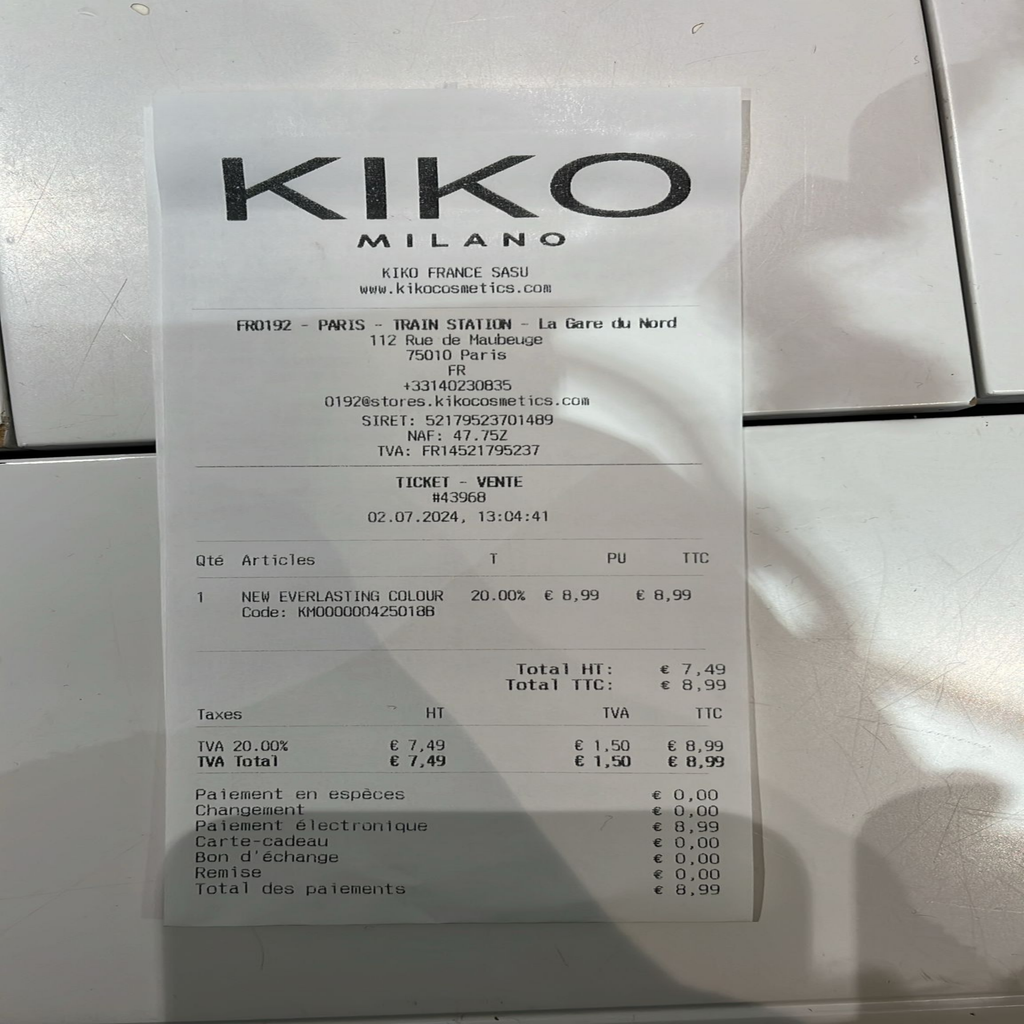recipt: (151, 92, 753, 923)
